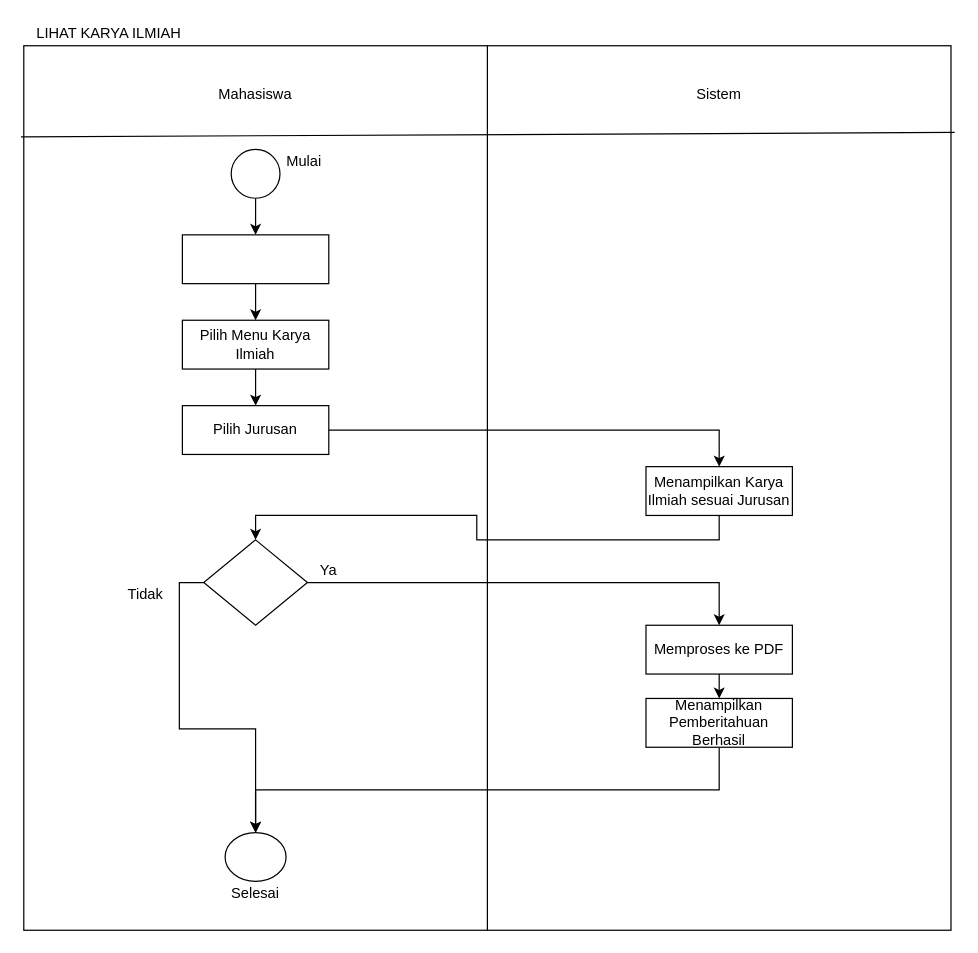
The diagram is 978 pixels wide and 953 high, and some of its shapes have lost their labels. Each missing label, with the centre of its shape:
"Download?" belongs at point (255, 582).
"Halaman Utama" belongs at point (255, 259).
